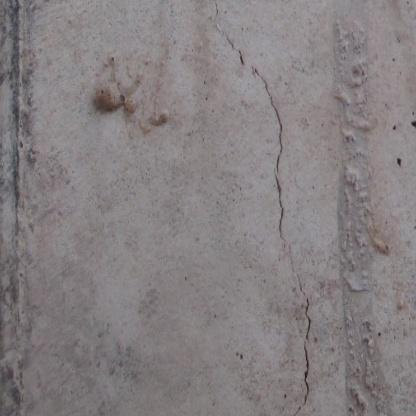Cracks: (223, 34, 289, 244), (289, 271, 317, 416), (211, 0, 223, 27)
